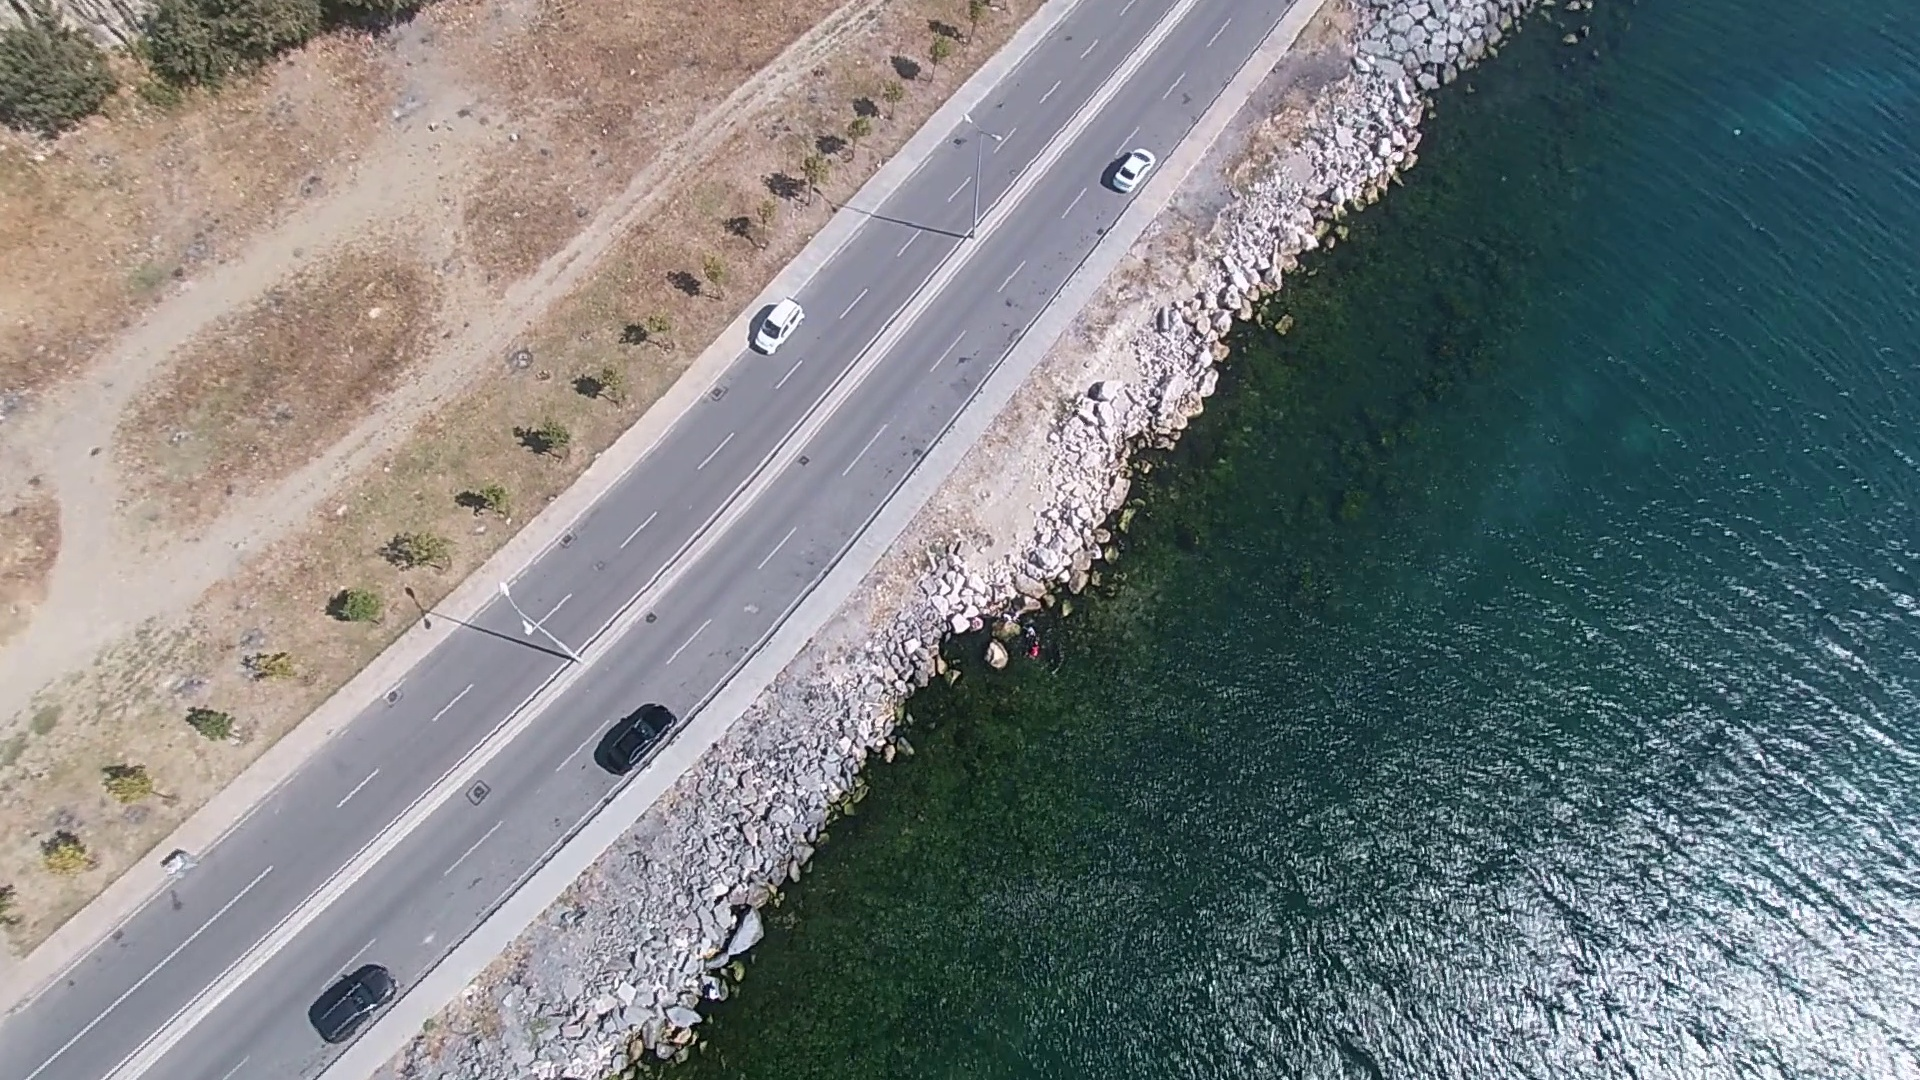araba: (596, 698, 676, 771), (316, 967, 392, 1044), (754, 293, 811, 353), (1102, 142, 1159, 195)
